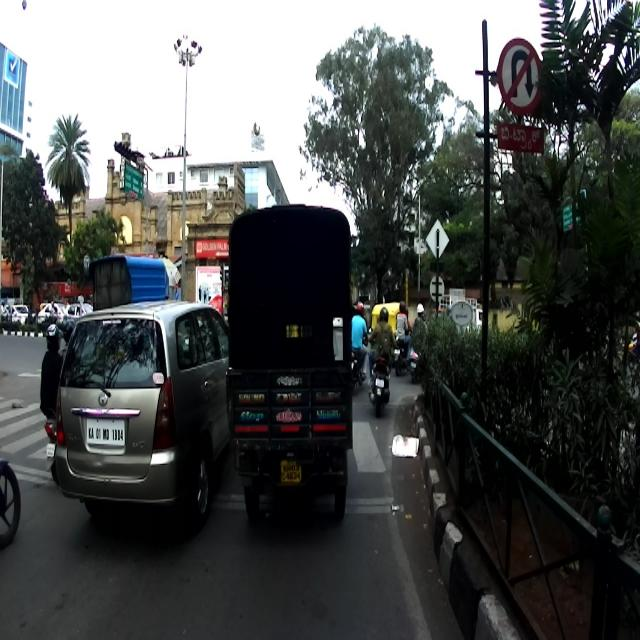Car_Toyota: (55, 297, 227, 527)
autorickshaw: (226, 203, 360, 522)
scooter: (364, 324, 396, 418)
